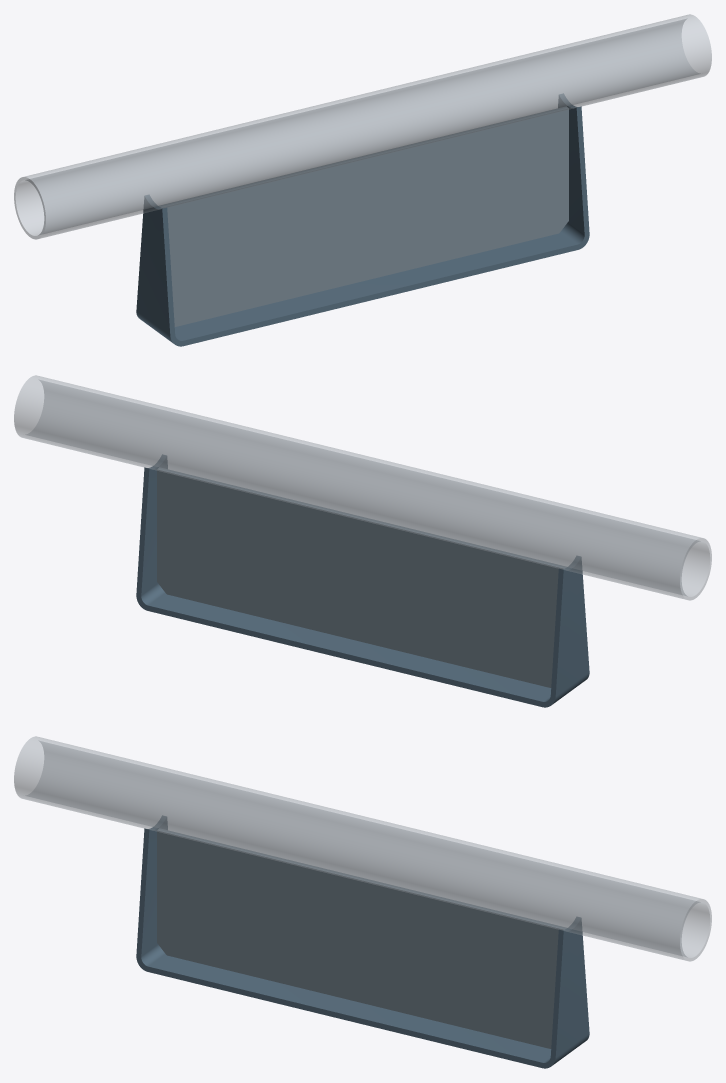
Rendered from TS-623.000-12-opora-dn45-H100-L340.glb.
3 renders of one model, top to bottom at view 1: azimuth 30°, elevation 25°; view 2: azimuth 150°, elevation 25°; view 3: azimuth 330°, elevation 25°, orthographic.
Visible parts, largest first — view 1: rebro, truba, skoba; view 2: rebro, truba, skoba; view 3: rebro, truba, skoba.
Part boxes in pixels (left/top/right/bottom): rebro: left=159, top=106, right=568, bottom=326; truba: left=14, top=14, right=711, bottom=239; skoba: left=136, top=93, right=589, bottom=346; rebro: left=157, top=467, right=566, bottom=687; truba: left=14, top=375, right=711, bottom=600; skoba: left=136, top=454, right=589, bottom=707; rebro: left=157, top=828, right=566, bottom=1048; truba: left=14, top=736, right=711, bottom=961; skoba: left=136, top=815, right=589, bottom=1068.
Size of the model in its own units: 540 by 145 by 50.
